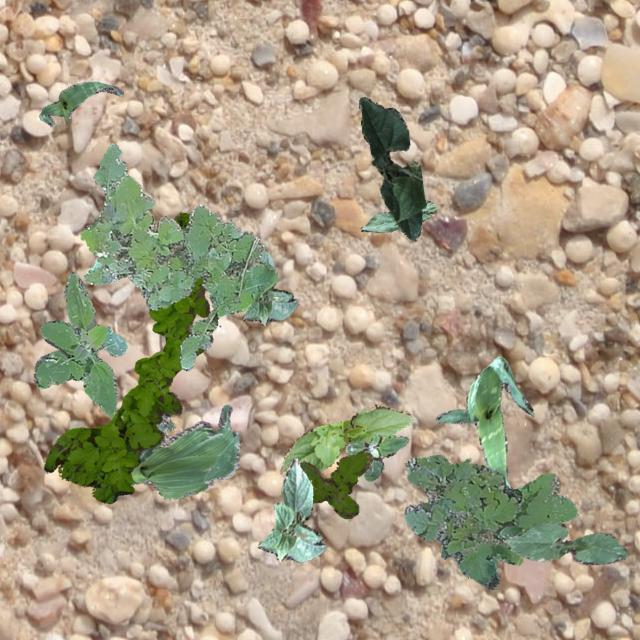crop: (434, 356, 532, 488), (128, 404, 240, 498), (358, 96, 426, 240), (280, 404, 412, 476), (256, 458, 324, 562), (503, 522, 628, 564), (242, 250, 296, 324), (39, 80, 122, 124), (359, 198, 436, 232)
weed: (44, 212, 208, 502), (80, 143, 278, 370), (404, 454, 576, 588), (32, 272, 126, 416), (298, 450, 372, 518), (344, 432, 406, 480), (418, 500, 447, 558), (166, 418, 174, 431)
